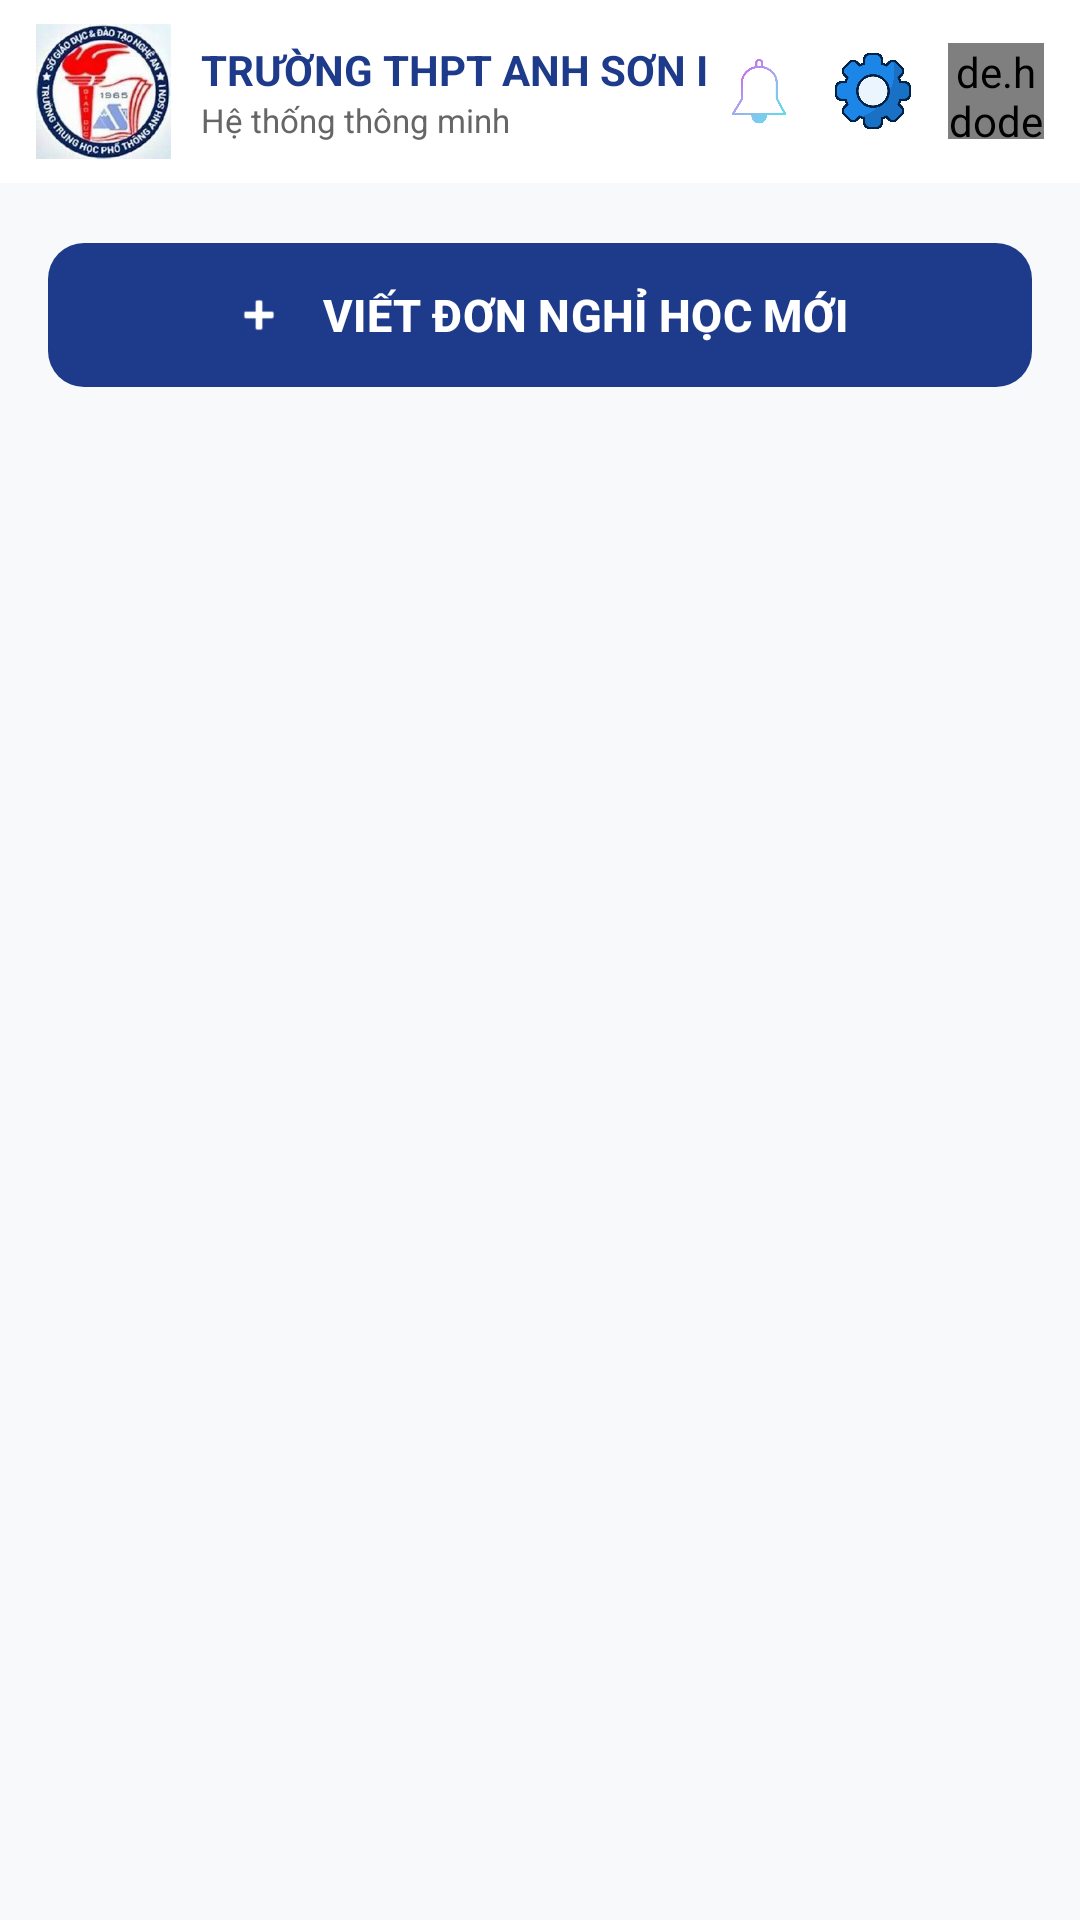

Where to tap for icons on this 1080 × 1920 app screen, as point (x, y):
Notification: point (759, 91)
Settings: point (873, 91)
